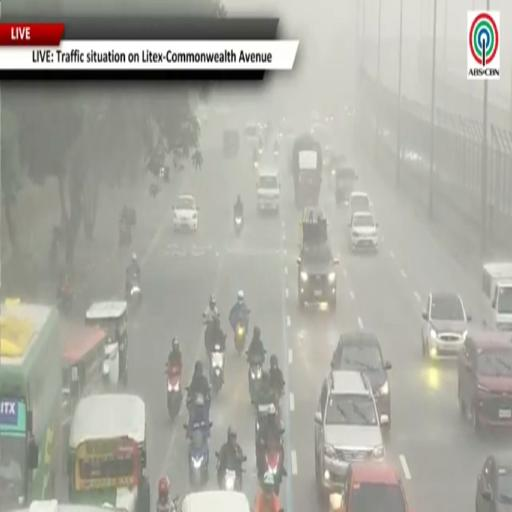car: (315, 371, 384, 495), (331, 331, 391, 429), (457, 331, 511, 433), (297, 207, 338, 312), (339, 462, 411, 511), (422, 292, 471, 359), (475, 453, 511, 511), (348, 212, 378, 252), (333, 158, 357, 204), (257, 168, 280, 212), (173, 195, 198, 231), (349, 191, 372, 216), (243, 122, 260, 147)
jeepney: (67, 394, 149, 511), (61, 323, 108, 445), (86, 301, 128, 386), (182, 490, 250, 511), (10, 500, 125, 511), (333, 164, 357, 204)
motorcycle: (189, 423, 212, 488), (219, 456, 247, 491), (246, 352, 264, 404), (264, 443, 282, 494), (166, 365, 182, 420), (203, 313, 221, 353), (234, 311, 250, 355), (210, 344, 224, 393), (255, 404, 275, 438), (57, 284, 74, 313), (128, 280, 142, 308), (156, 495, 180, 511), (119, 221, 131, 248), (272, 491, 284, 511), (234, 214, 243, 235), (171, 495, 179, 511), (274, 150, 279, 158), (254, 160, 258, 169)
truck: (0, 299, 62, 509), (291, 134, 322, 207), (483, 263, 511, 330)
